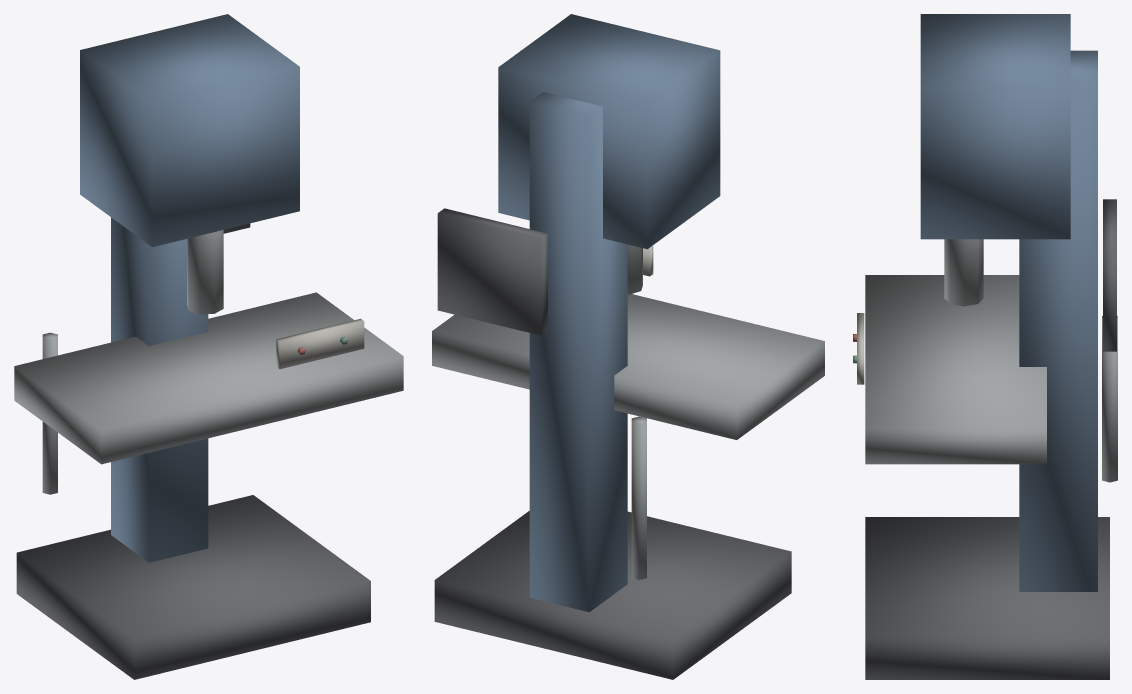
Rendered from milling_machine_silhouette__service.glb.
3 views of the same model, side by side, from view 1: azimuth 30°, elevation 25°; view 2: azimuth 150°, elevation 25°; view 3: azimuth 270°, elevation 25° (orthographic). The views are drawn at different scales.
Parts seen in each view (by area): view 1: world; view 2: world; view 3: world.
Boxes of the visible parts, x1,y1,x2,y2 form: world: (14, 14, 403, 679); world: (432, 14, 824, 679); world: (853, 14, 1117, 679).
Bounding box in the file's own units: 0.92 × 1.59 × 0.6709.
